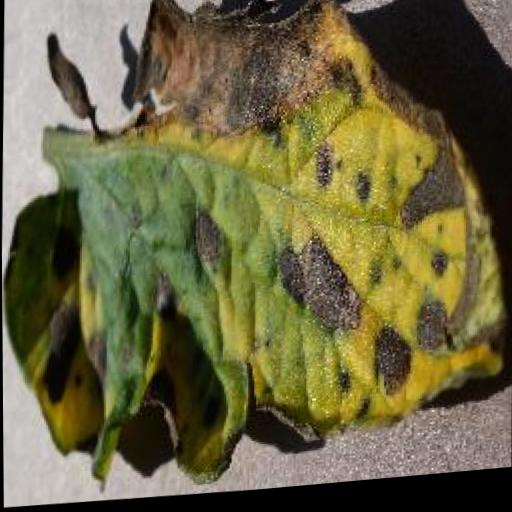Early Blight: (0, 0, 506, 503)
